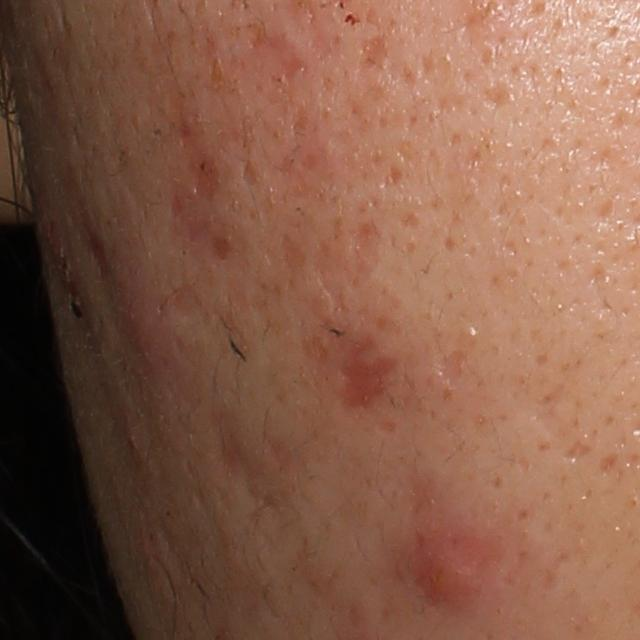atrophic_scar: (207, 411, 298, 518), (505, 367, 575, 450), (329, 337, 400, 416), (245, 28, 309, 80), (343, 217, 383, 284), (191, 154, 223, 202), (433, 350, 467, 385), (208, 237, 241, 266), (360, 33, 387, 67), (283, 230, 303, 273), (560, 436, 593, 458), (240, 158, 260, 189), (597, 451, 621, 475)
papule: (410, 533, 493, 613), (112, 270, 164, 358)
